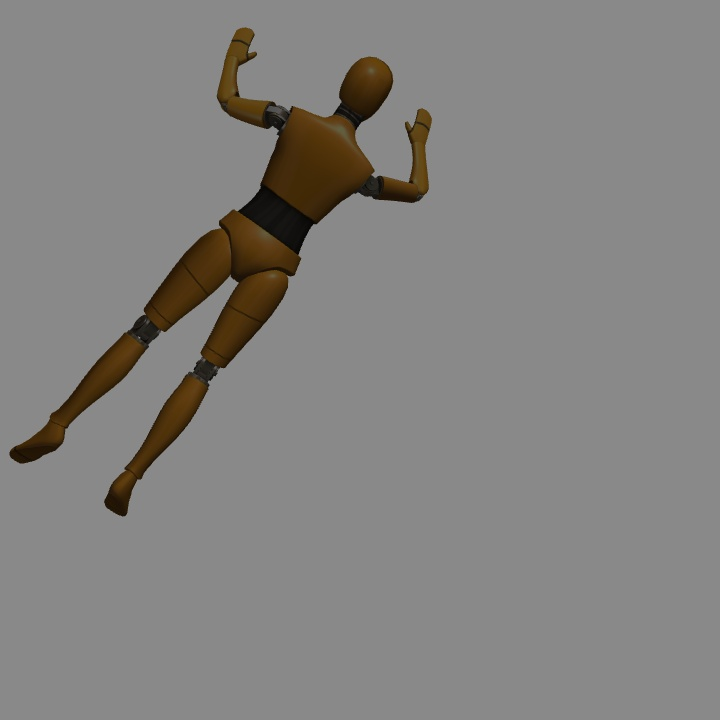victim: (16, 56, 392, 513)
